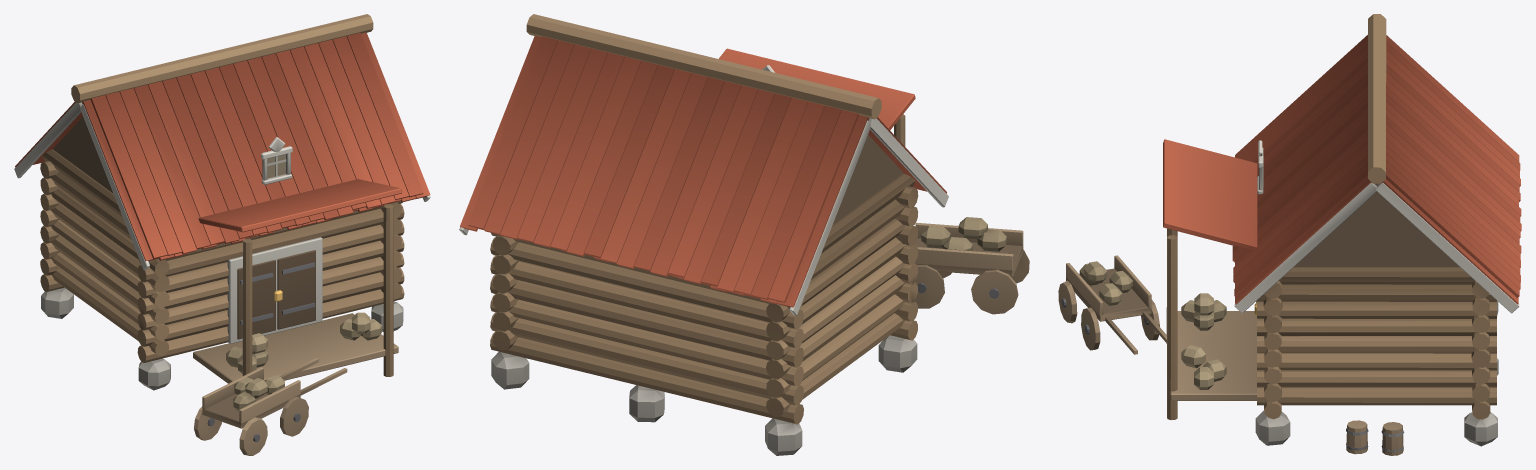
File: bld_ambar_e1.glb
The picture shows the model from 3 angles, left to right: view 1: azimuth 30°, elevation 25°; view 2: azimuth 150°, elevation 25°; view 3: azimuth 270°, elevation 25°; orthographic projection. The views are drawn at different scales.
Parts seen in each view (by area): view 1: ambar; view 2: ambar; view 3: ambar.
Boxes of the visible parts, x1,y1,x2,y2 form: ambar: (14, 14, 430, 455); ambar: (459, 14, 1029, 455); ambar: (1058, 14, 1521, 455).
Size of the model in its own units: 1.84 by 1.62 by 2.34.
